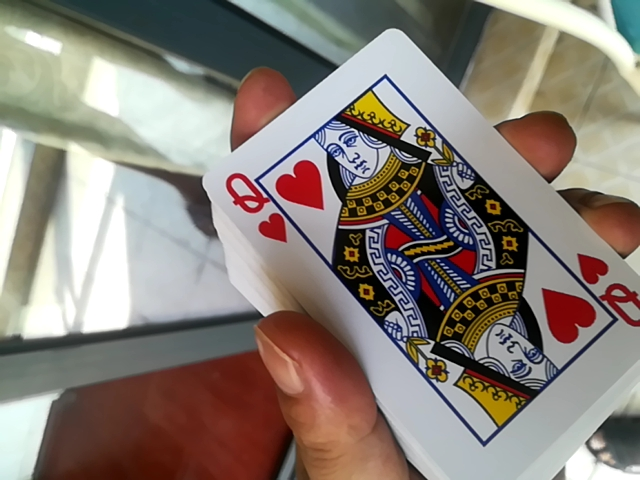hx q: (203, 21, 638, 479)
